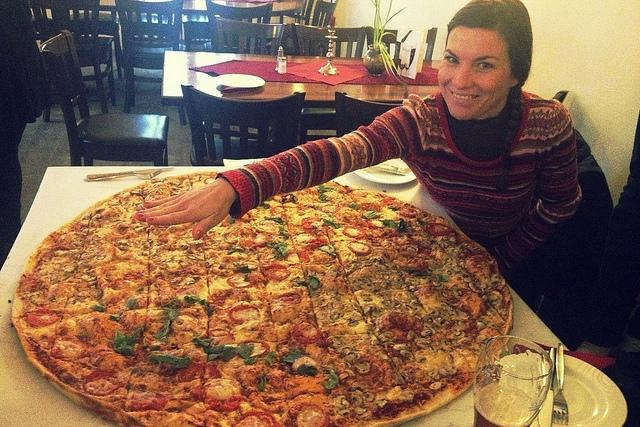mushroom: (336, 394, 350, 411), (335, 344, 353, 356), (354, 362, 371, 374), (342, 352, 358, 364), (403, 244, 419, 254), (348, 382, 364, 392), (392, 328, 404, 339), (420, 328, 432, 338), (82, 274, 96, 282), (362, 392, 374, 401), (429, 382, 442, 390), (434, 318, 444, 328), (438, 290, 452, 297), (416, 342, 431, 348), (394, 344, 408, 350), (353, 396, 363, 404), (354, 308, 363, 316), (400, 349, 410, 356), (446, 332, 454, 340), (381, 280, 389, 288), (452, 326, 464, 331), (452, 266, 462, 271), (436, 350, 444, 356)
